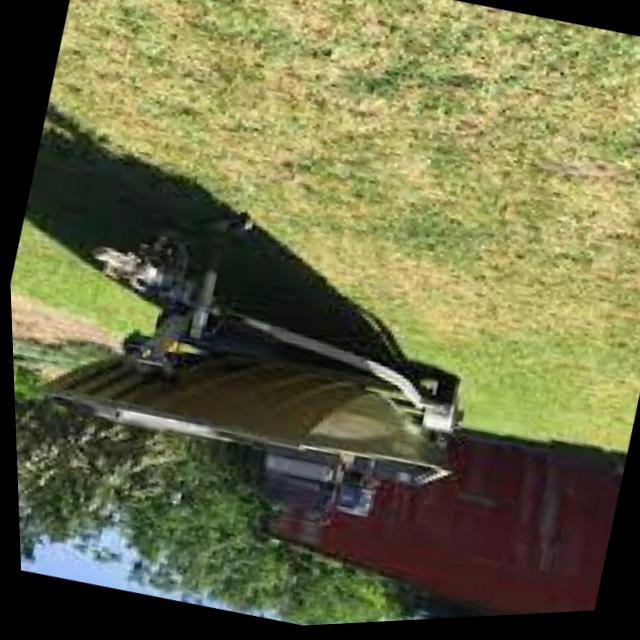ship2: (43, 345, 449, 516)
